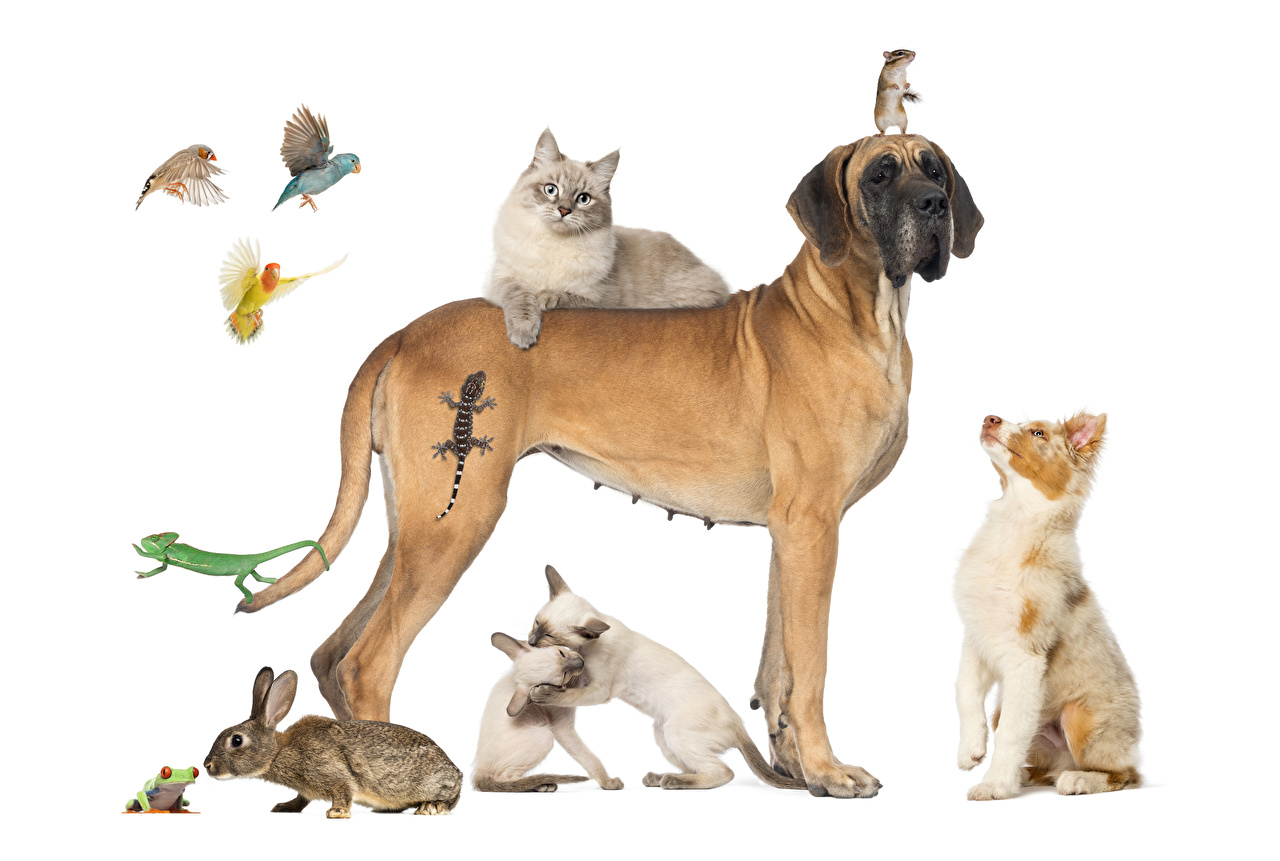cat: (446, 93, 733, 333), (491, 563, 759, 805)
dog: (737, 120, 964, 473), (954, 412, 1154, 806)
rabbit: (189, 667, 457, 828)
